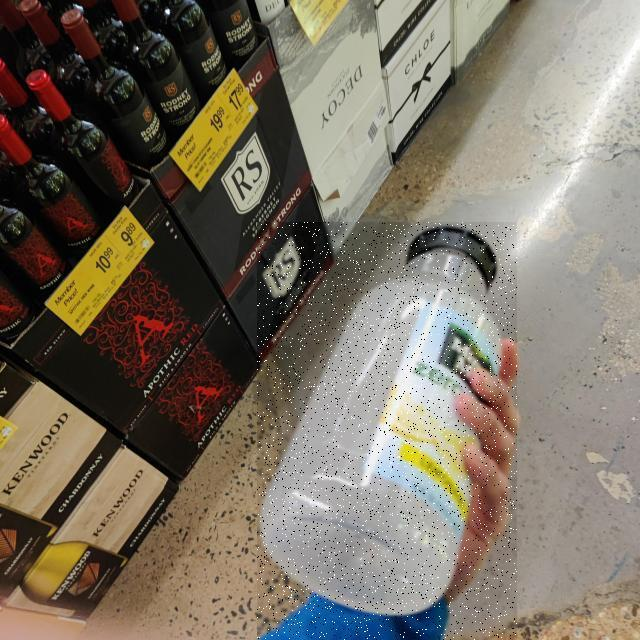Juice: (257, 222, 517, 640)
